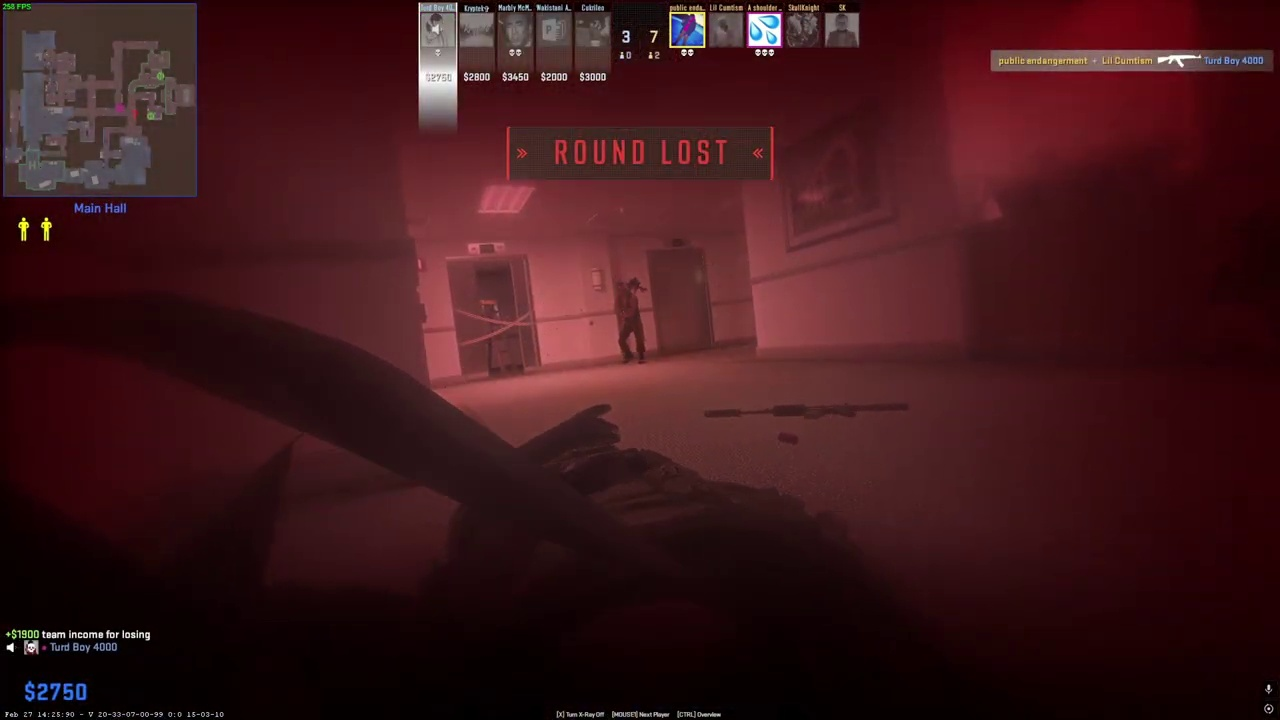Terrorist: (615, 281, 646, 364)
